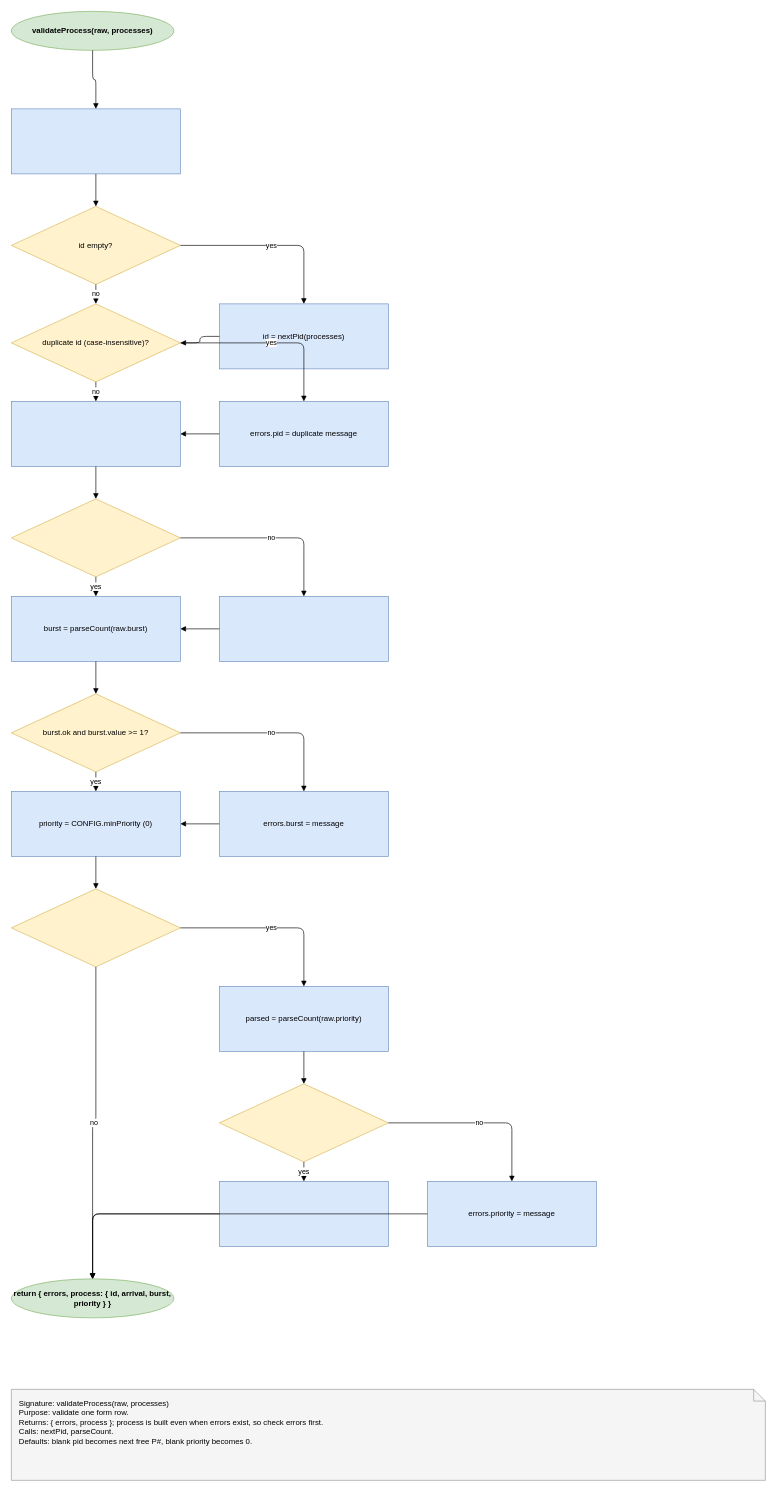
This 777x1492 diagram has some shape labels left out. The shapes that lost their labels are listed below. From the top down, each one's centre as x and y in pixels, then its label:
At point 95,141: "errors = {} id = raw.pid.trim()".
At point 95,433: "arrival = parseCount(raw.arrival)".
At point 95,537: "arrival.ok?".
At point 303,628: "errors.arrival = message".
At point 95,927: "priority text non-blank?".
At point 303,1122: "parsed.ok?".
At point 303,1213: "priority = parsed.value".
